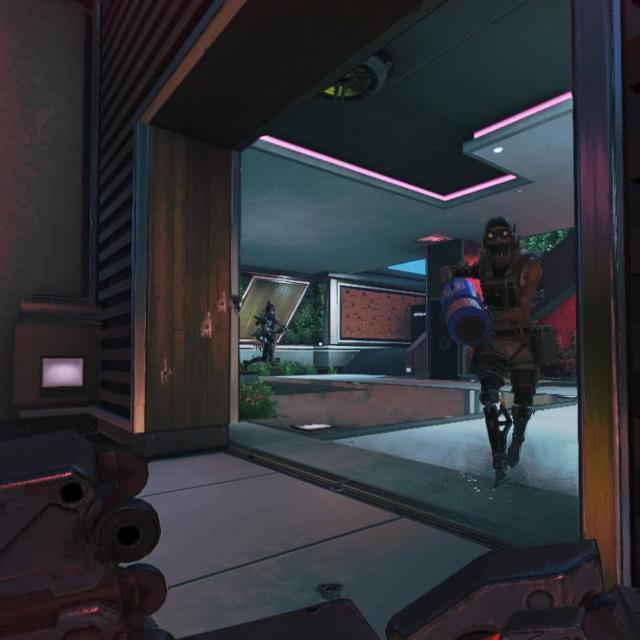avatar: (436, 216, 547, 491), (251, 300, 287, 369)
